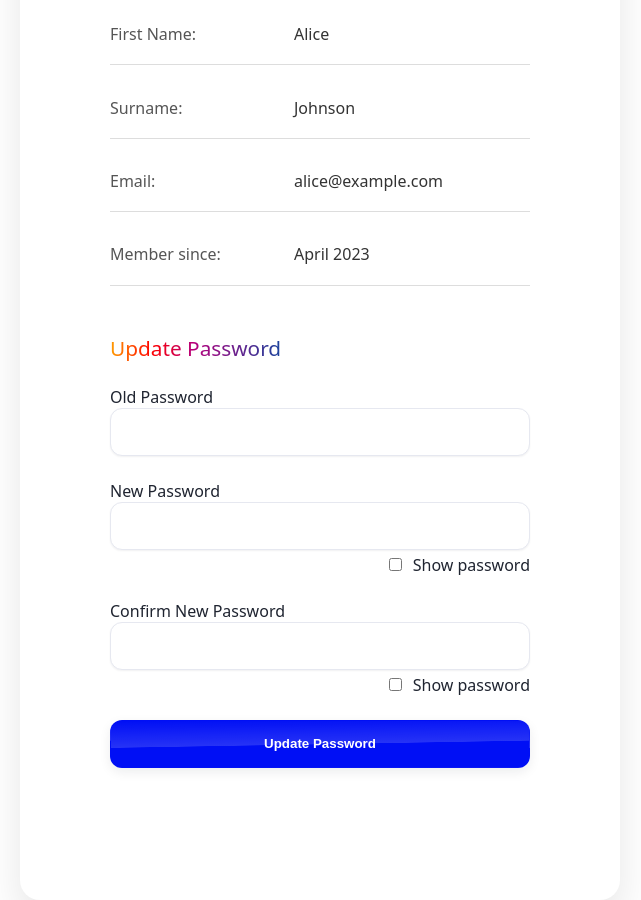
Test case: Profile Component › shows error if confirm password does not match
The image size is (641, 900).
(page scrolled)
Expected: the text "Alice" is shown, x1=294 y1=23 x2=329 y2=45
Type "StrongPass1!" into the password field labelled "New Password" at (320, 526), box x1=110 y1=502 x2=530 y2=550
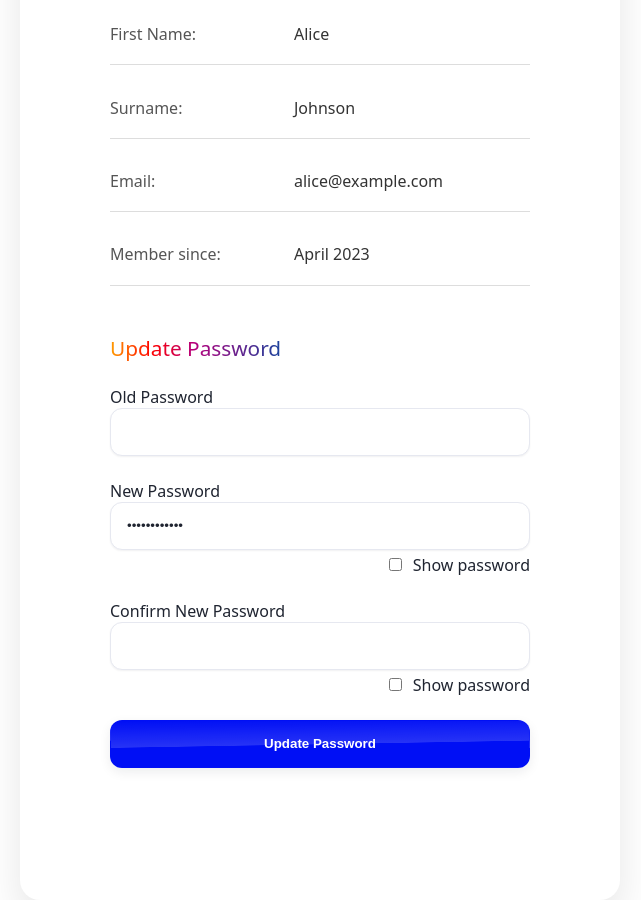
Type "Mismatch1!" into the password field labelled "Confirm New Password" at (320, 646), box x1=110 y1=622 x2=530 y2=670
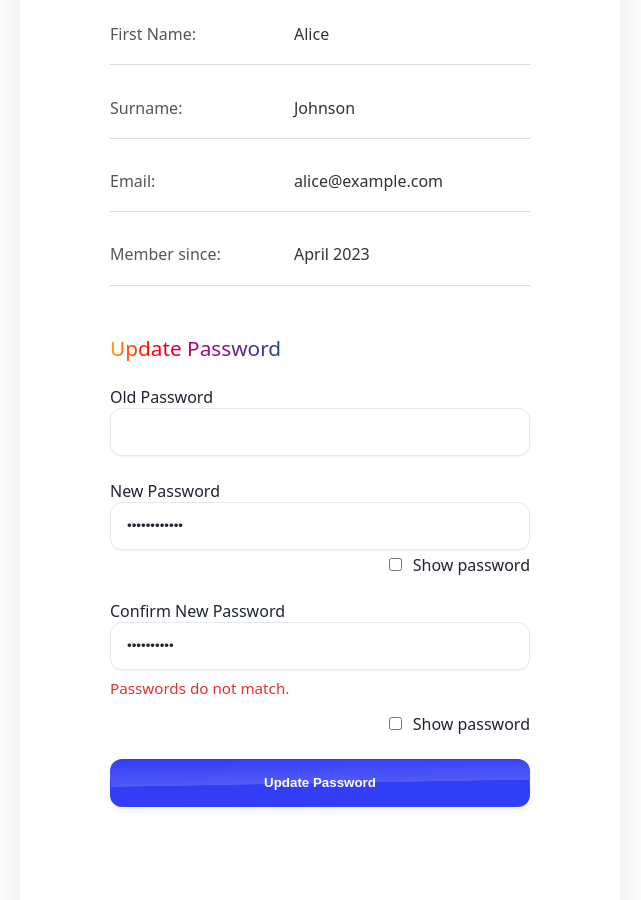
Expected: the text "Passwords do not match." is shown, x1=110 y1=678 x2=289 y2=698
